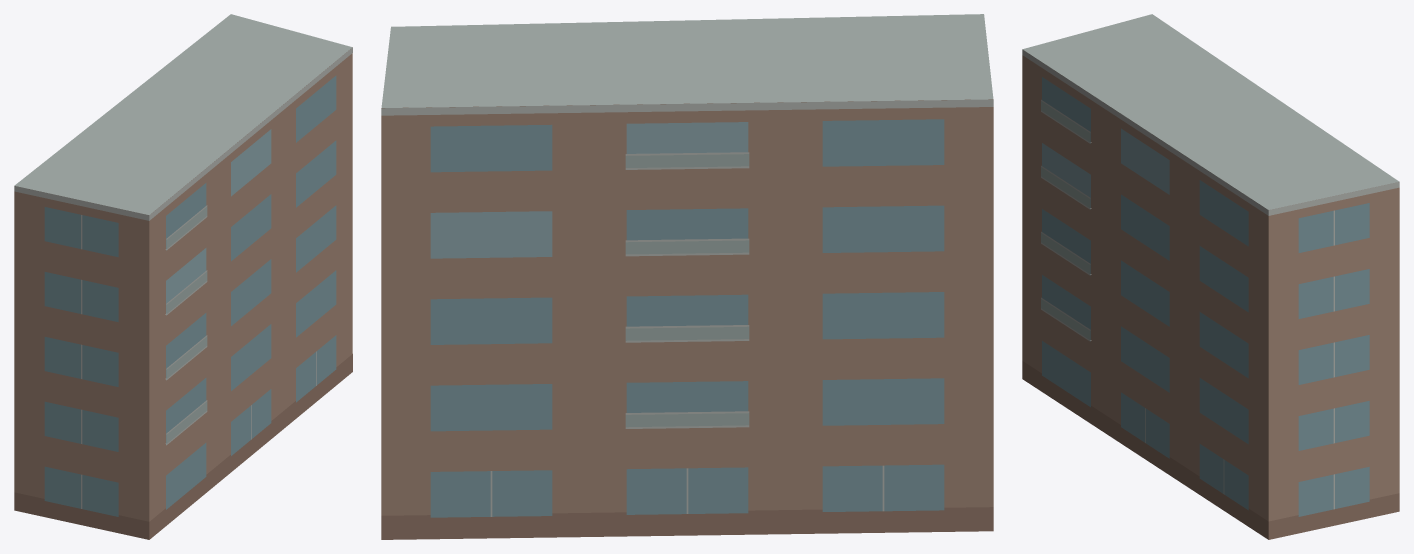
Rendered from survey-upis-32770053.glb.
3 renders of one model, left to right at view 1: azimuth 30°, elevation 25°; view 2: azimuth 150°, elevation 25°; view 3: azimuth 270°, elevation 25°, orthographic. The views are drawn at different scales.
Parts seen in each view (by area): view 1: survey-upis-32770053.tmp; view 2: survey-upis-32770053.tmp; view 3: survey-upis-32770053.tmp.
Part boxes in pixels (<box>): survey-upis-32770053.tmp: <box>14,14,352,539</box>; survey-upis-32770053.tmp: <box>381,14,993,539</box>; survey-upis-32770053.tmp: <box>1022,14,1399,539</box>.
Bounding box in the file's own units: 17.74 × 13.9 × 14.42.
